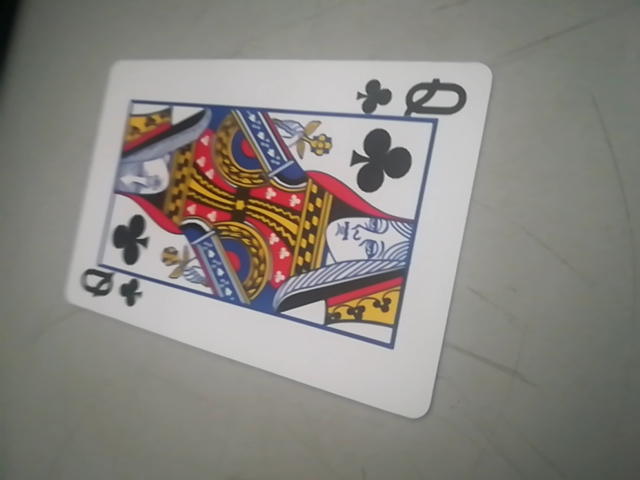mh q: (58, 53, 492, 422)
